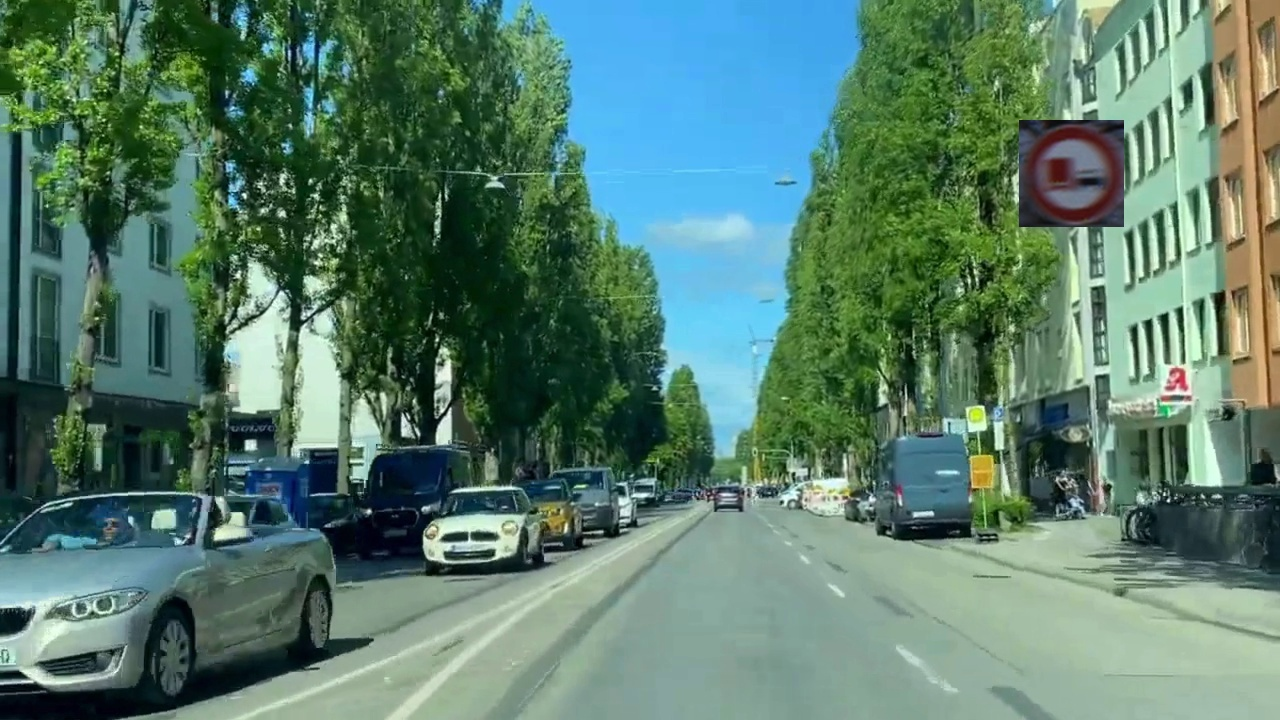No pass >3.5t: (1019, 120, 1124, 227)
